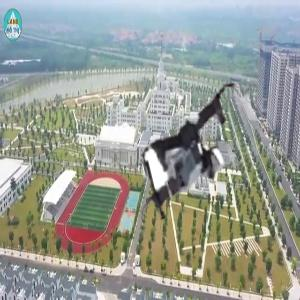drone: (123, 83, 264, 224)
